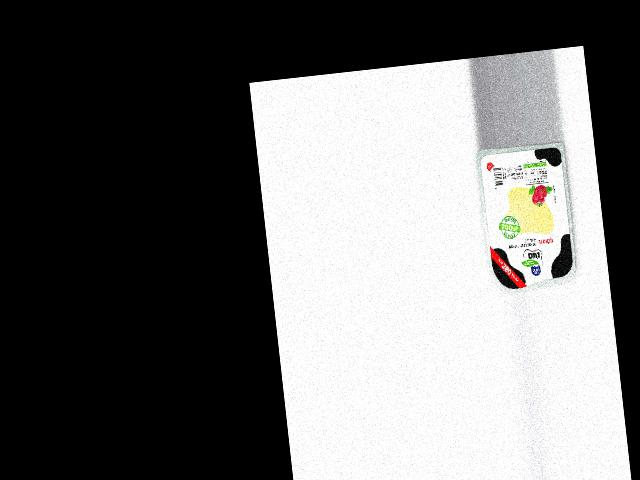cheese: (475, 141, 579, 296)
